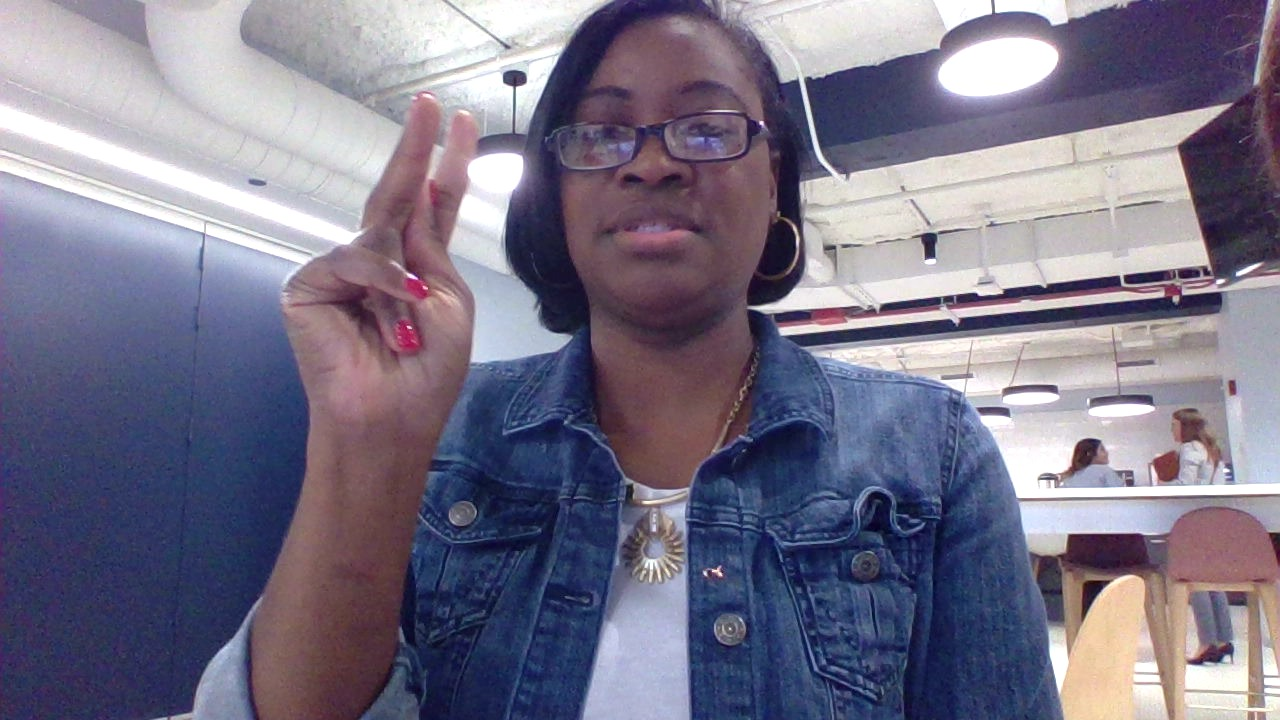k: (245, 71, 523, 465)
